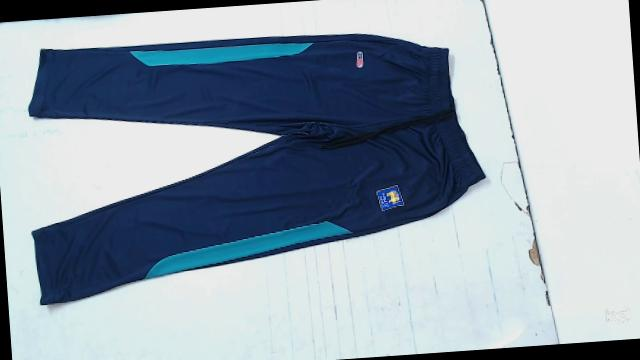new-garment: (27, 34, 483, 304)
